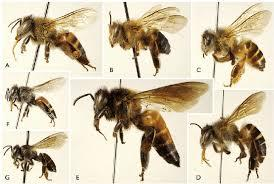Apis-mellifera-scutellata: (89, 78, 205, 171), (103, 0, 194, 82), (10, 1, 98, 74), (190, 95, 274, 170), (197, 10, 270, 86), (7, 133, 77, 181), (9, 75, 61, 123)
